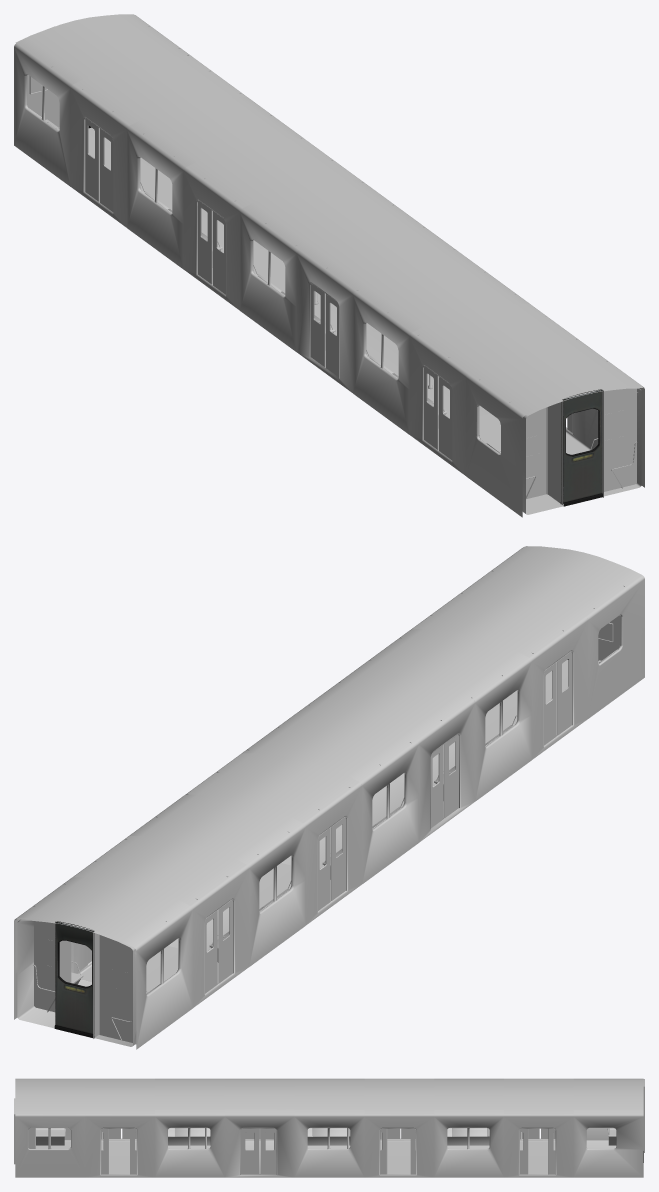
File: Metro.fbx
The picture shows the model from 3 angles, top to bottom: view 1: azimuth 30°, elevation 25°; view 2: azimuth 150°, elevation 25°; view 3: azimuth 270°, elevation 25°; orthographic projection. The views are drawn at different scales.
Parts seen in each view (by area): view 1: polySurface223, polySurface287, polySurface212, polySurface293, polySurface299, polySurface224, polySurface211, polySurface215, polySurface213; view 2: polySurface224, polySurface299, polySurface293, polySurface212, polySurface287, polySurface223, polySurface211, polySurface213, polySurface215; view 3: polySurface293, polySurface224, polySurface212, polySurface299, polySurface287, polySurface223, polySurface213, polySurface211, polySurface215, polySurface220, polySurface221, polySurface222 (+1 smaller).
Boxes of the visible parts, left/top/right/bottom form: polySurface223: left=466, top=345, right=644, bottom=517; polySurface287: left=409, top=303, right=586, bottom=475; polySurface212: left=296, top=221, right=473, bottom=392; polySurface293: left=183, top=138, right=360, bottom=310; polySurface299: left=70, top=55, right=247, bottom=227; polySurface224: left=14, top=14, right=191, bottom=186; polySurface211: left=127, top=97, right=304, bottom=269; polySurface215: left=353, top=262, right=530, bottom=434; polySurface213: left=240, top=179, right=417, bottom=351; polySurface224: left=14, top=877, right=192, bottom=1049; polySurface299: left=72, top=836, right=249, bottom=1007; polySurface293: left=185, top=753, right=362, bottom=925; polySurface212: left=298, top=670, right=475, bottom=842; polySurface287: left=411, top=587, right=588, bottom=759; polySurface223: left=467, top=546, right=644, bottom=718; polySurface211: left=128, top=794, right=305, bottom=966; polySurface213: left=241, top=711, right=418, bottom=883; polySurface215: left=354, top=629, right=531, bottom=801; polySurface293: left=364, top=1078, right=434, bottom=1177; polySurface224: left=573, top=1078, right=644, bottom=1177; polySurface212: left=224, top=1078, right=294, bottom=1177; polySurface299: left=503, top=1078, right=573, bottom=1177; polySurface287: left=85, top=1078, right=154, bottom=1177; polySurface223: left=14, top=1078, right=85, bottom=1177; polySurface213: left=294, top=1078, right=364, bottom=1177; polySurface211: left=434, top=1078, right=503, bottom=1177; polySurface215: left=155, top=1078, right=224, bottom=1177; polySurface220: left=447, top=1128, right=489, bottom=1145; polySurface221: left=307, top=1128, right=350, bottom=1145; polySurface222: left=168, top=1128, right=210, bottom=1145.
Bounding box in the file's own units: 13.19 × 11.35 × 95.34.
